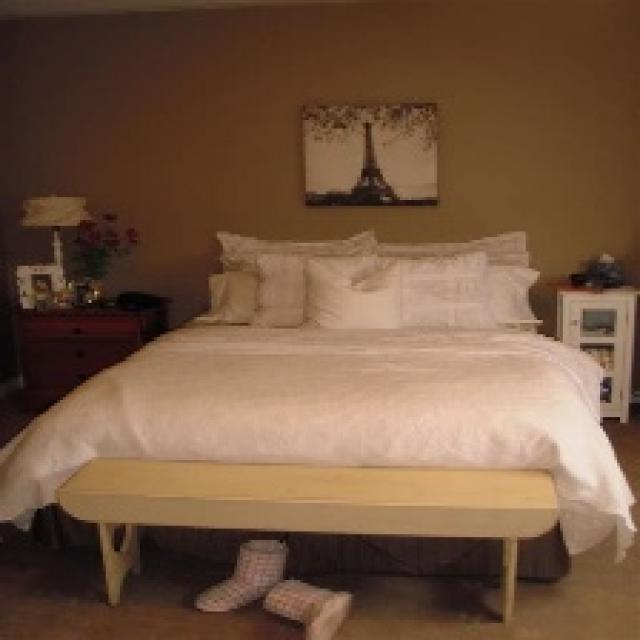Bed: (0, 229, 637, 574)
